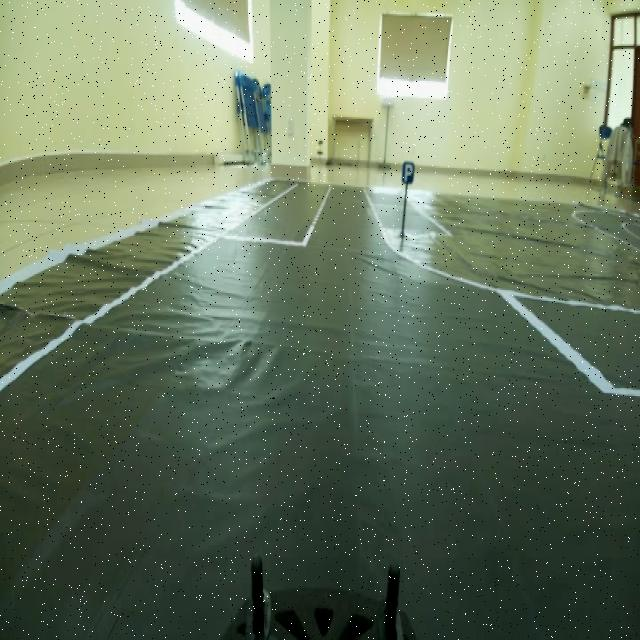parking: (397, 151, 416, 190)
